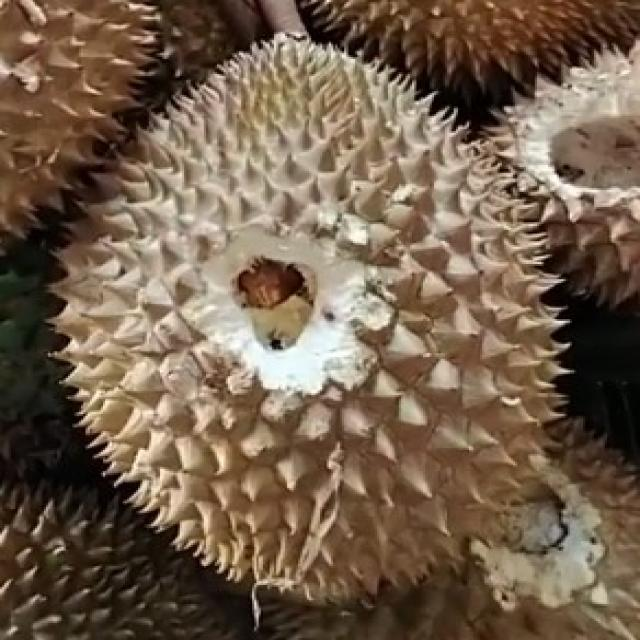defective: (52, 28, 574, 614)
